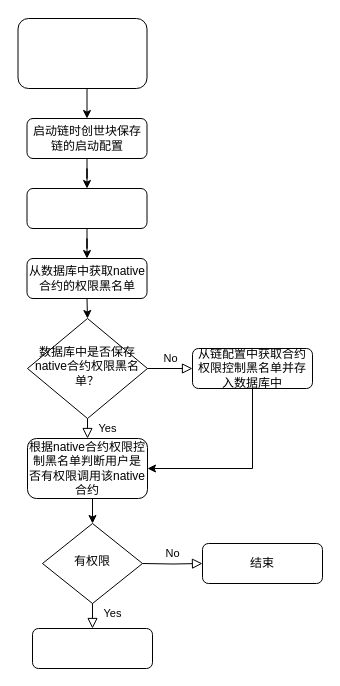
This 340x686 diagram has some shape labels left out. Here are the shapes that lost their labels. From the top down, the centre of each, then its label:
At (82,53): "在链配置文件中增添启链时默认禁止的系统合约，如不添加则默认拥有所有native合约调用权限".
At (86,208): "用户通过sdk发送native合约".
At (92,648): "执行该合约".
